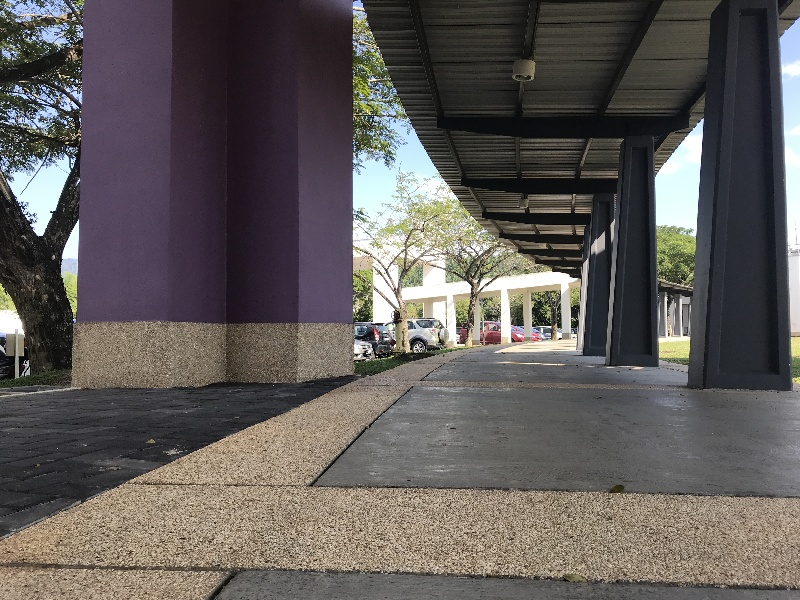pillar: (66, 11, 350, 388), (706, 8, 790, 391), (583, 141, 665, 378)
